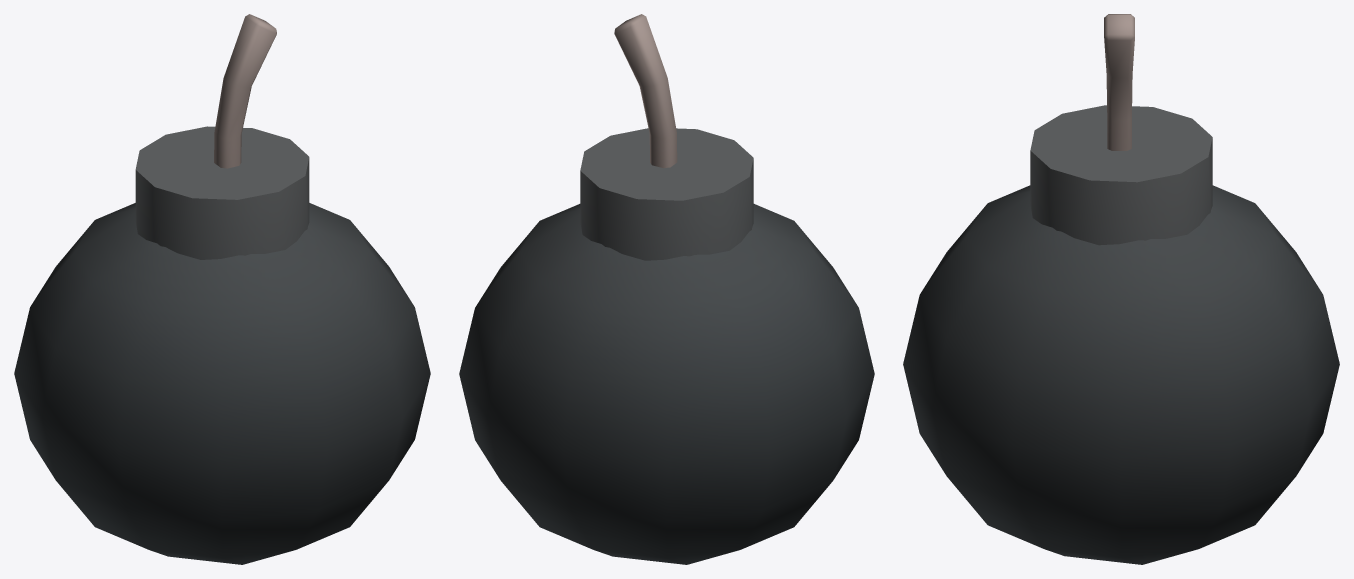
Rendered from bomb_001.fbx.
The picture shows the model from 3 angles, left to right: view 1: azimuth 30°, elevation 25°; view 2: azimuth 150°, elevation 25°; view 3: azimuth 270°, elevation 25°; orthographic projection. The views are drawn at different scales.
Visible parts, largest first — view 1: bomb_001; view 2: bomb_001; view 3: bomb_001.
Part boxes in pixels (x1,y1,x2,y2): bomb_001: (14, 14, 430, 564); bomb_001: (459, 14, 874, 564); bomb_001: (903, 14, 1339, 564).
Size of the model in its own units: 81.24 by 81.24 by 112.
